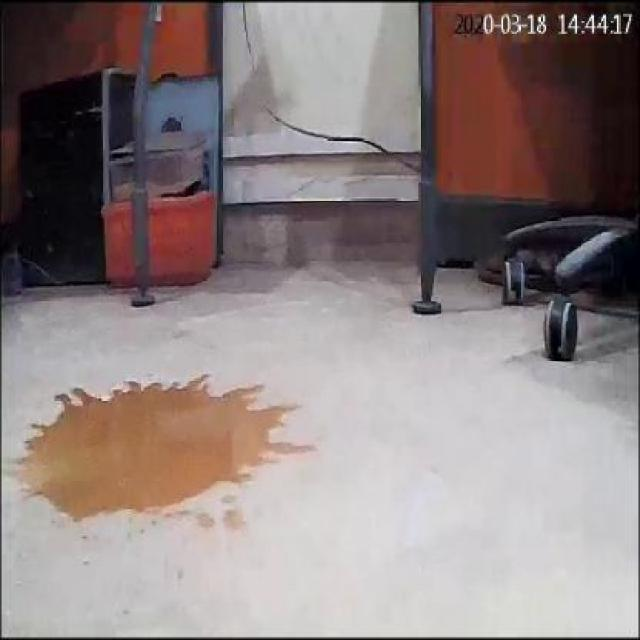spill: (9, 370, 309, 524)
